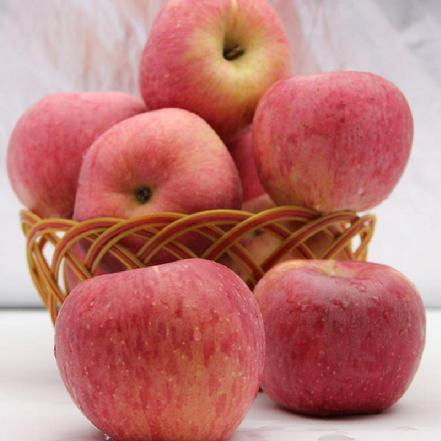apple: (54, 254, 264, 439), (252, 259, 427, 421), (249, 70, 413, 213), (69, 107, 244, 234), (4, 91, 141, 217), (140, 3, 289, 111)
